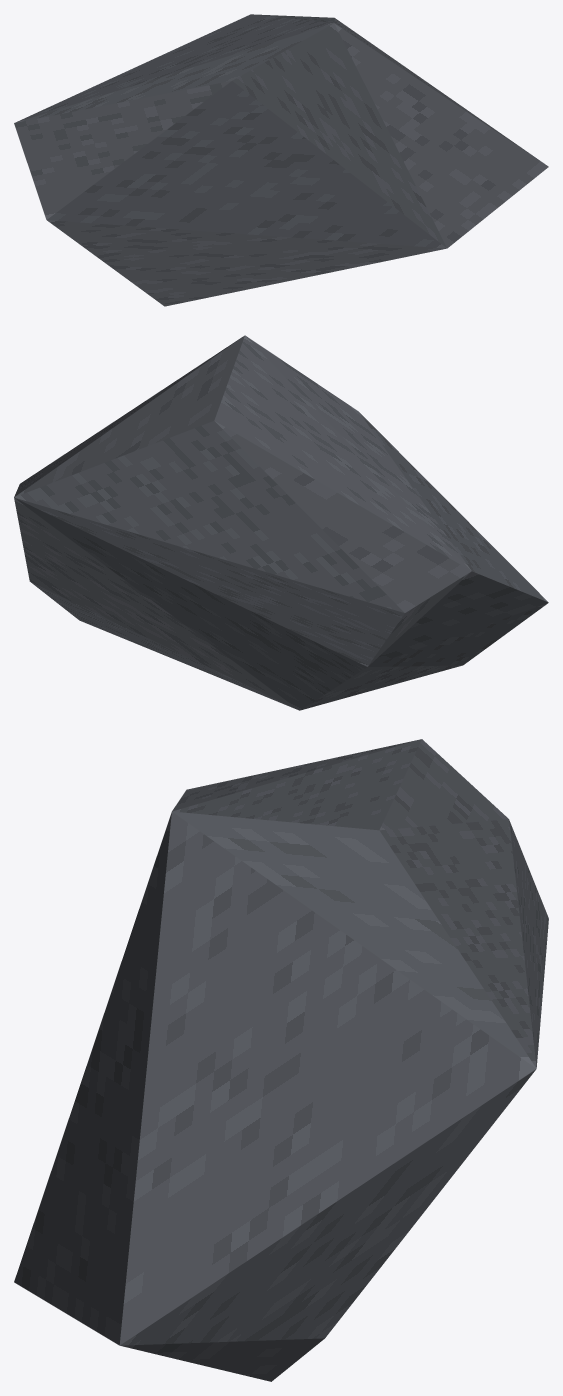
Rendered from slag.glb.
The picture shows the model from 3 angles, top to bottom: view 1: azimuth 30°, elevation 25°; view 2: azimuth 150°, elevation 25°; view 3: azimuth 270°, elevation 25°; orthographic projection. The views are drawn at different scales.
Visible parts, largest first — view 1: block_irregular metal; view 2: block_irregular metal; view 3: block_irregular metal.
Part boxes in pixels (left/top/right/bottom): block_irregular metal: left=14, top=14, right=548, bottom=306; block_irregular metal: left=14, top=335, right=548, bottom=710; block_irregular metal: left=14, top=739, right=548, bottom=1381.
Size of the model in its own units: 0.0261 by 0.013 by 0.0135.
1 material, 1 textured.
